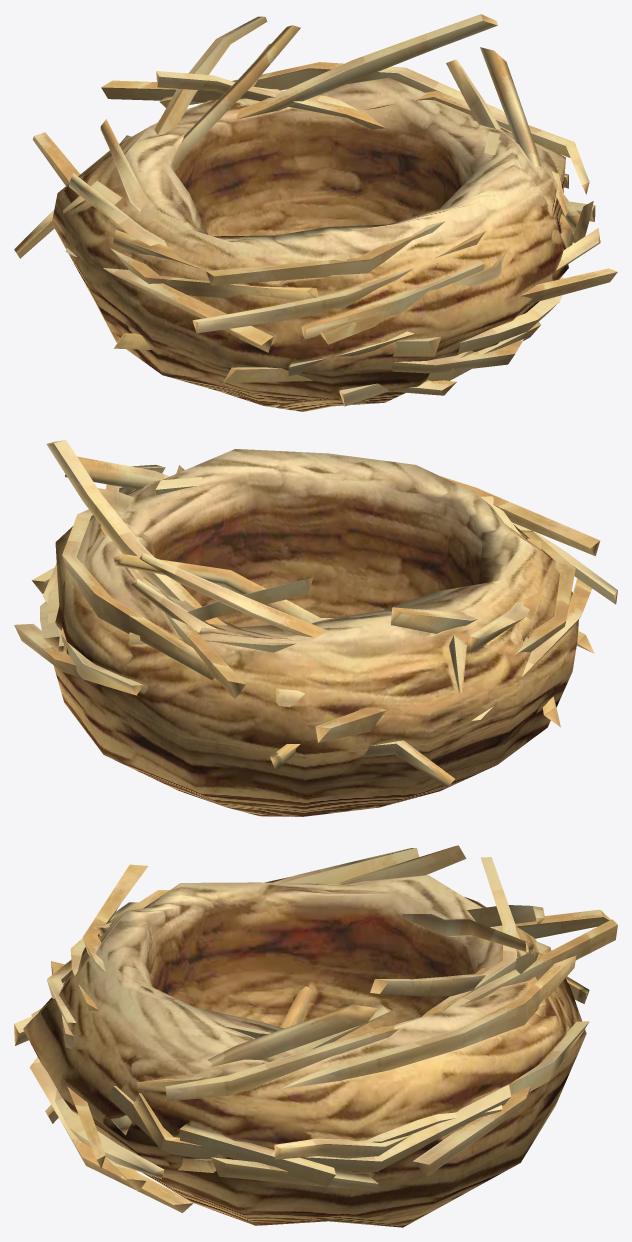
3 renders of one model, top to bottom at view 1: azimuth 30°, elevation 25°; view 2: azimuth 150°, elevation 25°; view 3: azimuth 270°, elevation 25°, orthographic. The views are drawn at different scales.
Parts seen in each view (by area): view 1: SM_Birds_Nest_01_LOD0; view 2: SM_Birds_Nest_01_LOD0; view 3: SM_Birds_Nest_01_LOD0.
Boxes of the visible parts, box(x1,y1,x2,y2) form: SM_Birds_Nest_01_LOD0: box(14, 14, 617, 411); SM_Birds_Nest_01_LOD0: box(14, 440, 617, 816); SM_Birds_Nest_01_LOD0: box(14, 845, 617, 1227).
Bounding box in the file's own units: 0.4726 × 0.2774 × 0.4872.
Materials: 1 (1 with a texture image).
